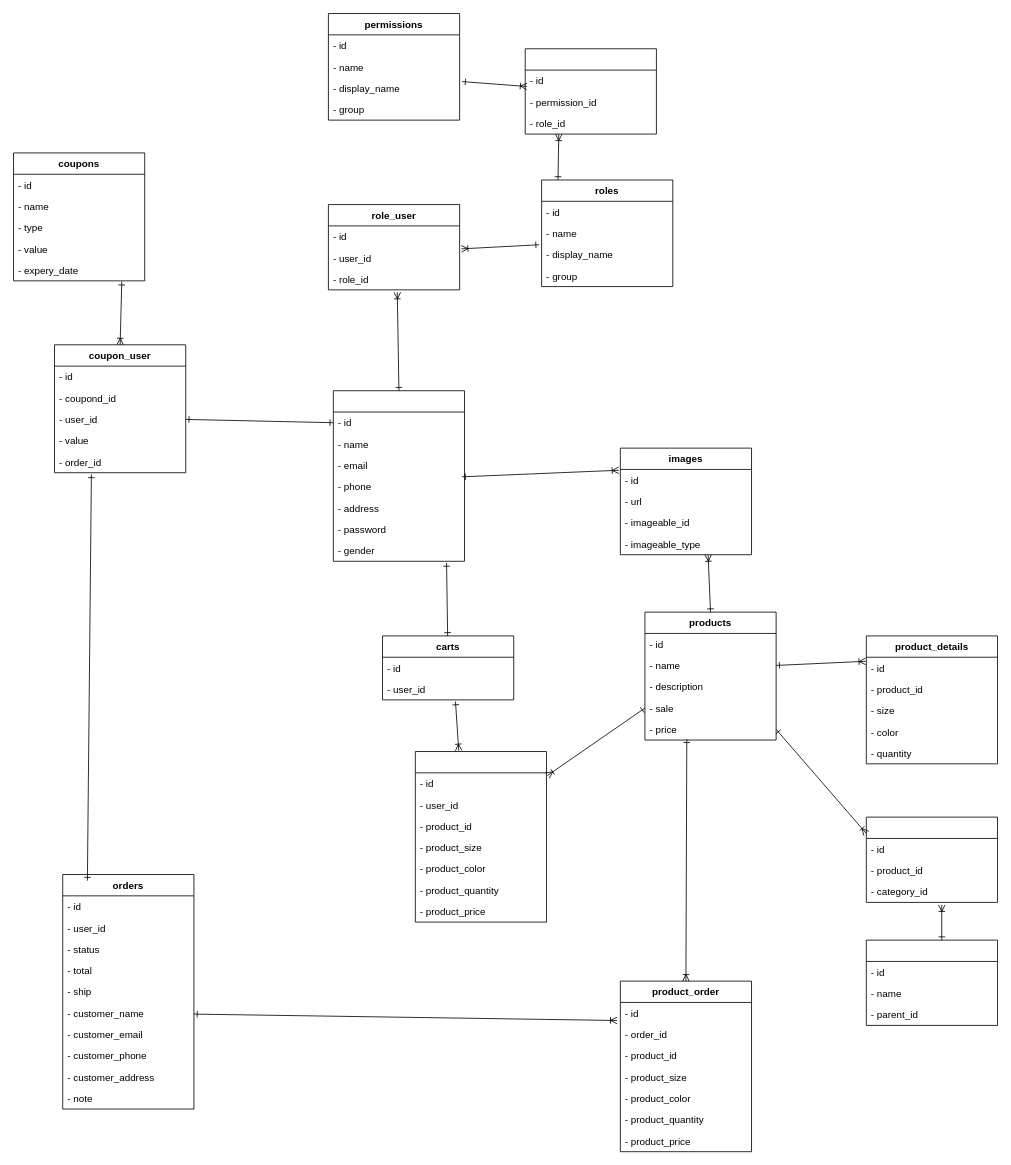
The diagram is 1011 pixels wide and 1165 high, and some of its shapes have lost their labels. The box of each missing label's shape, as (x1, y1, x2, y2) in pixels:
cart_product: (415, 751, 547, 922)
categories: (866, 939, 998, 1025)
category_product: (866, 816, 998, 902)
permission_role: (524, 48, 656, 134)
Users: (333, 390, 465, 561)
